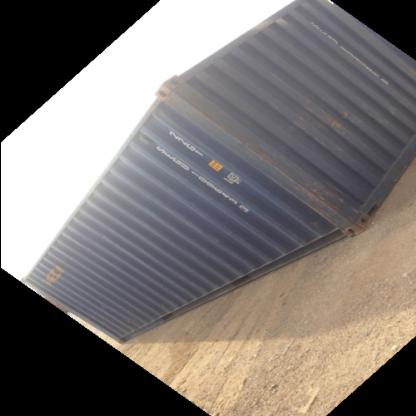Damage: (168, 94, 264, 166), (280, 172, 343, 227), (312, 100, 352, 142), (76, 218, 100, 264)
